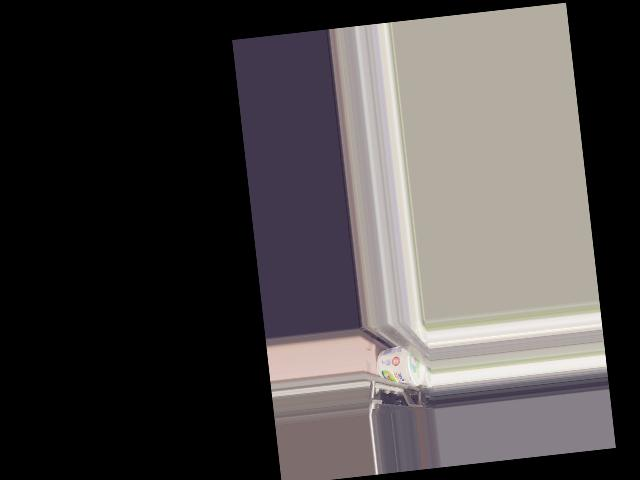cotage: (376, 342, 426, 387)
